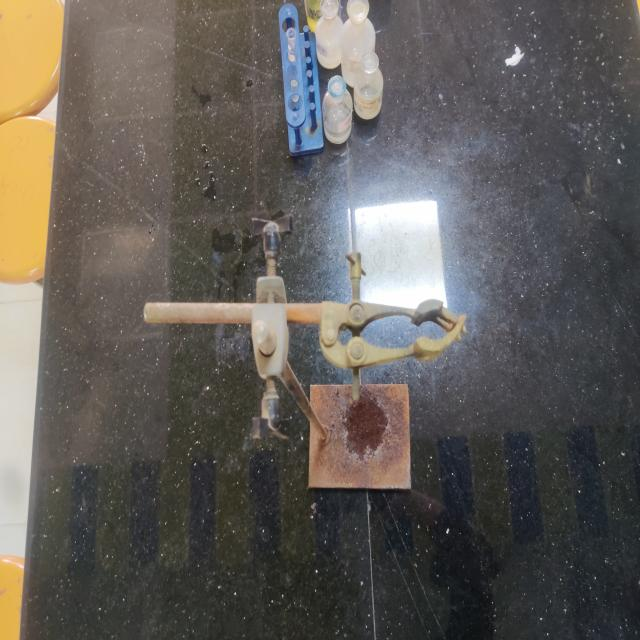Burette_Stands: (124, 207, 480, 521)
